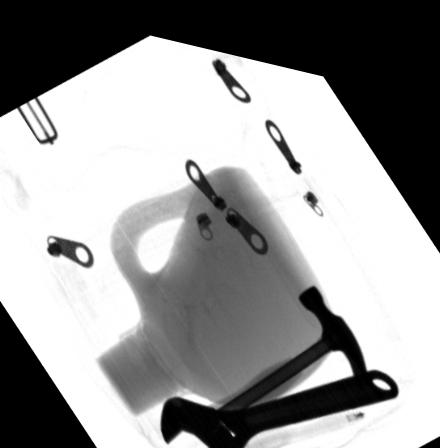Hammer: (210, 272, 370, 417)
Wrench: (159, 350, 397, 448)
